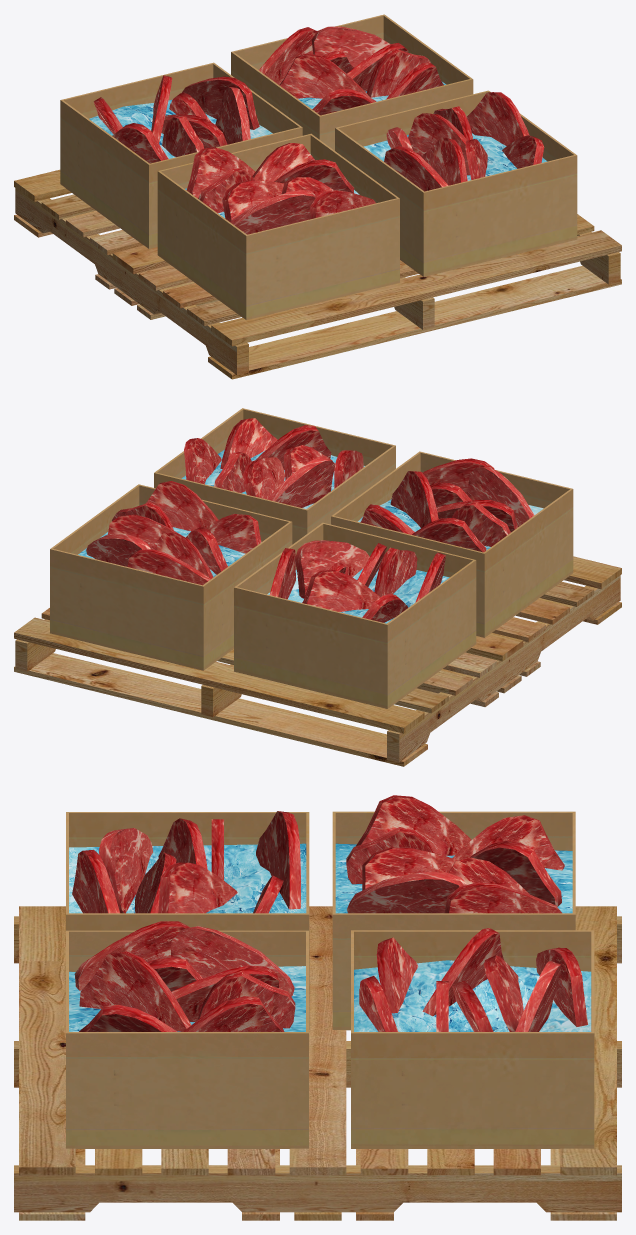
Rendered from Cardboard_boxGroup03.glb.
3 renders of one model, top to bottom at view 1: azimuth 30°, elevation 25°; view 2: azimuth 150°, elevation 25°; view 3: azimuth 270°, elevation 25°, orthographic. The views are drawn at different scales.
Parts seen in each view (by area): view 1: Cardboard_boxGroup03, Cardboard_boxG03; view 2: Cardboard_boxGroup03, Cardboard_boxG03; view 3: Cardboard_boxGroup03, Cardboard_boxG03.
Part boxes in pixels (left/top/right/bottom): Cardboard_boxGroup03: left=60, top=14, right=577, bottom=319; Cardboard_boxG03: left=14, top=169, right=621, bottom=379; Cardboard_boxGroup03: left=50, top=408, right=573, bottom=708; Cardboard_boxG03: left=14, top=556, right=621, bottom=766; Cardboard_boxGroup03: left=66, top=795, right=594, bottom=1148; Cardboard_boxG03: left=14, top=906, right=621, bottom=1220.
Bounding box in the file's own units: 2.16 × 0.7514 × 2.12.
Materials: 2 (2 with a texture image).
